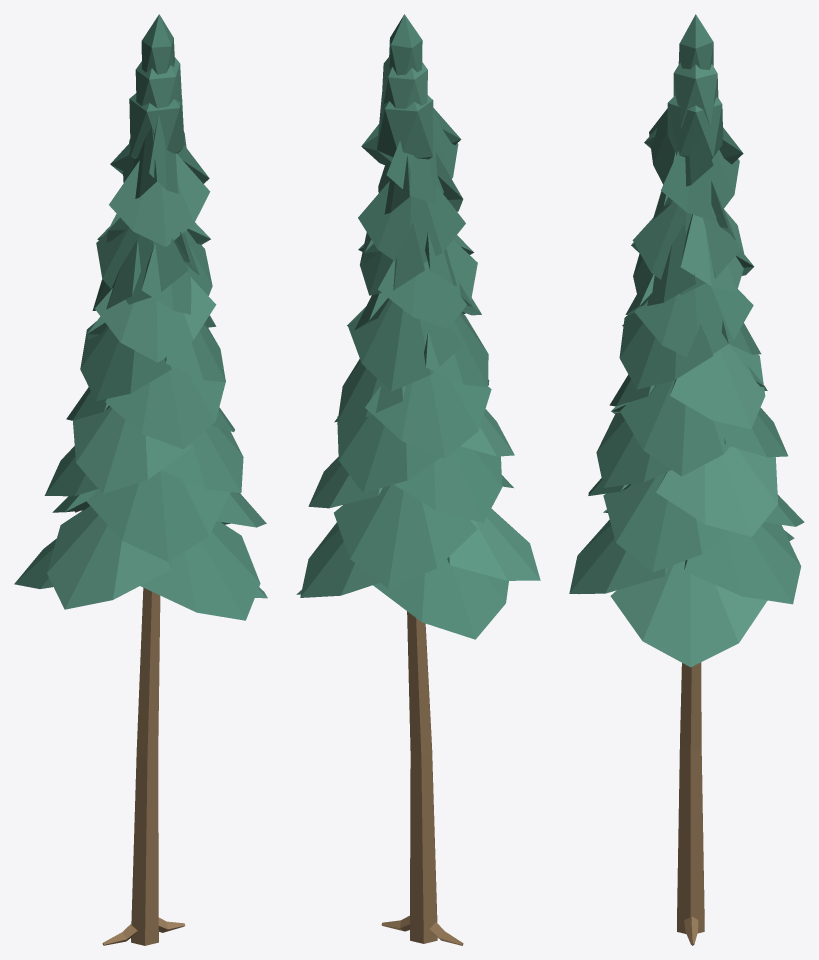
File: conifer_02.glb
3 views of the same model, side by side, from view 1: azimuth 30°, elevation 25°; view 2: azimuth 150°, elevation 25°; view 3: azimuth 270°, elevation 25° (orthographic).
Visible parts, largest first — view 1: Conifer_02; view 2: Conifer_02; view 3: Conifer_02.
Part boxes in pixels (x1,y1,x2,y2): Conifer_02: (14,14,267,945); Conifer_02: (296,14,540,945); Conifer_02: (569,14,804,945).
Size of the model in its own units: 4.86 by 19.59 by 4.53.
